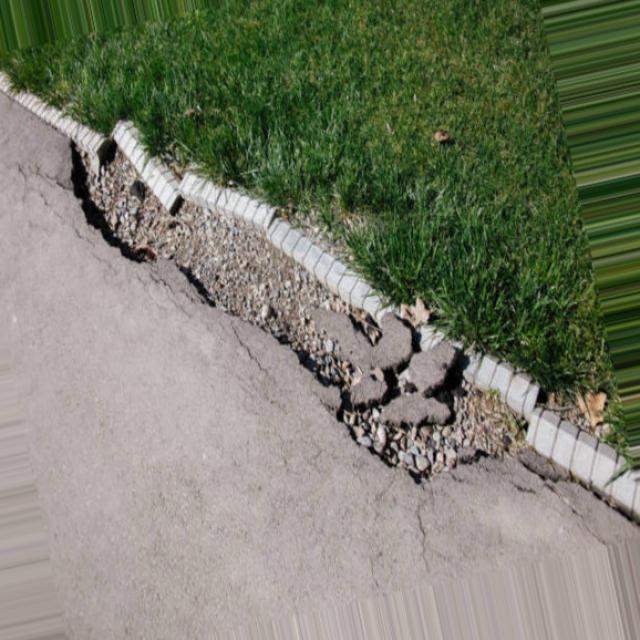Pinggir: (36, 75, 595, 544)
